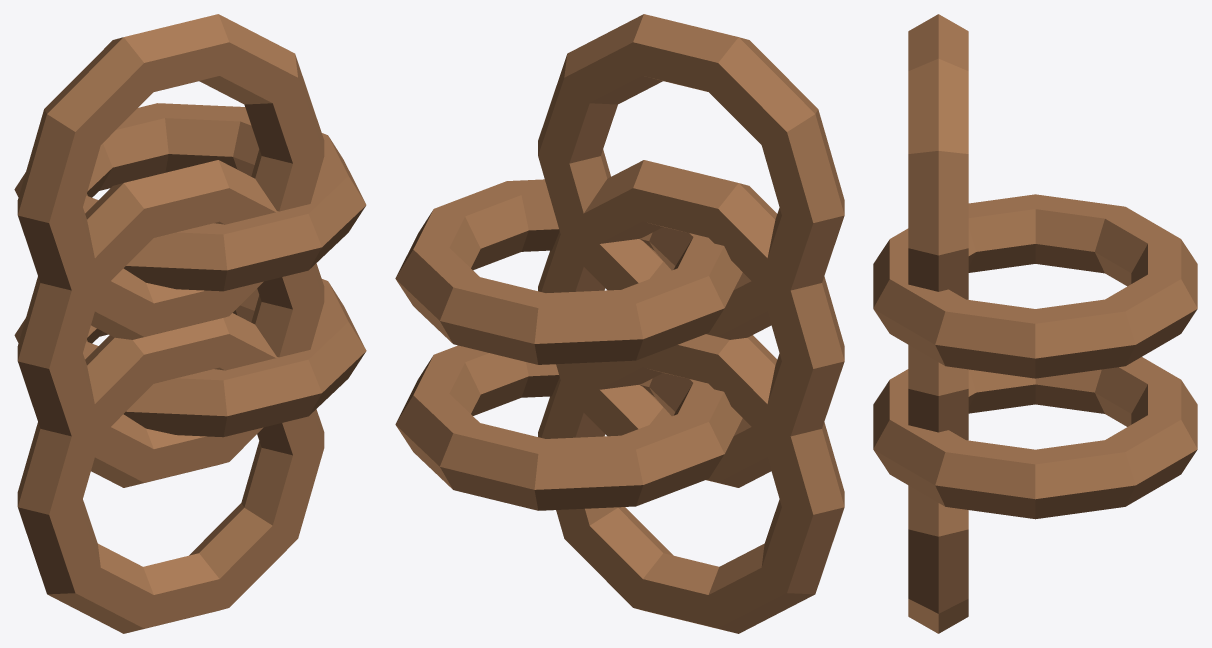
File: LL_Chain_Pile.fbx
The picture shows the model from 3 angles, left to right: view 1: azimuth 30°, elevation 25°; view 2: azimuth 150°, elevation 25°; view 3: azimuth 270°, elevation 25°; orthographic projection. The views are drawn at different scales.
Visible parts, largest first — view 1: LL_Chain_Link_0, LL_Chain_Link_4, LL_Chain_Link_2, LL_Chain_Link_3, LL_Chain_Link_1; view 2: LL_Chain_Link_4, LL_Chain_Link_0, LL_Chain_Link_3, LL_Chain_Link_1, LL_Chain_Link_2; view 3: LL_Chain_Link_3, LL_Chain_Link_1, LL_Chain_Link_4, LL_Chain_Link_0, LL_Chain_Link_2.
Boxes of the visible parts, x1=… form: LL_Chain_Link_0: x1=17, y1=313, x2=324, y2=633; LL_Chain_Link_4: x1=17, y1=14, x2=324, y2=339; LL_Chain_Link_2: x1=17, y1=160, x2=324, y2=487; LL_Chain_Link_3: x1=14, y1=103, x2=366, y2=291; LL_Chain_Link_1: x1=14, y1=279, x2=366, y2=437; LL_Chain_Link_4: x1=538, y1=14, x2=844, y2=339; LL_Chain_Link_0: x1=538, y1=334, x2=844, y2=633; LL_Chain_Link_3: x1=395, y1=179, x2=742, y2=364; LL_Chain_Link_1: x1=395, y1=345, x2=742, y2=510; LL_Chain_Link_2: x1=538, y1=160, x2=844, y2=487; LL_Chain_Link_3: x1=873, y1=194, x2=1197, y2=378; LL_Chain_Link_1: x1=873, y1=357, x2=1197, y2=519; LL_Chain_Link_4: x1=908, y1=14, x2=968, y2=299; LL_Chain_Link_0: x1=908, y1=485, x2=968, y2=633; LL_Chain_Link_2: x1=908, y1=345, x2=968, y2=440.
Bounding box in the file's own units: 0.216 × 0.3274 × 0.1674.
